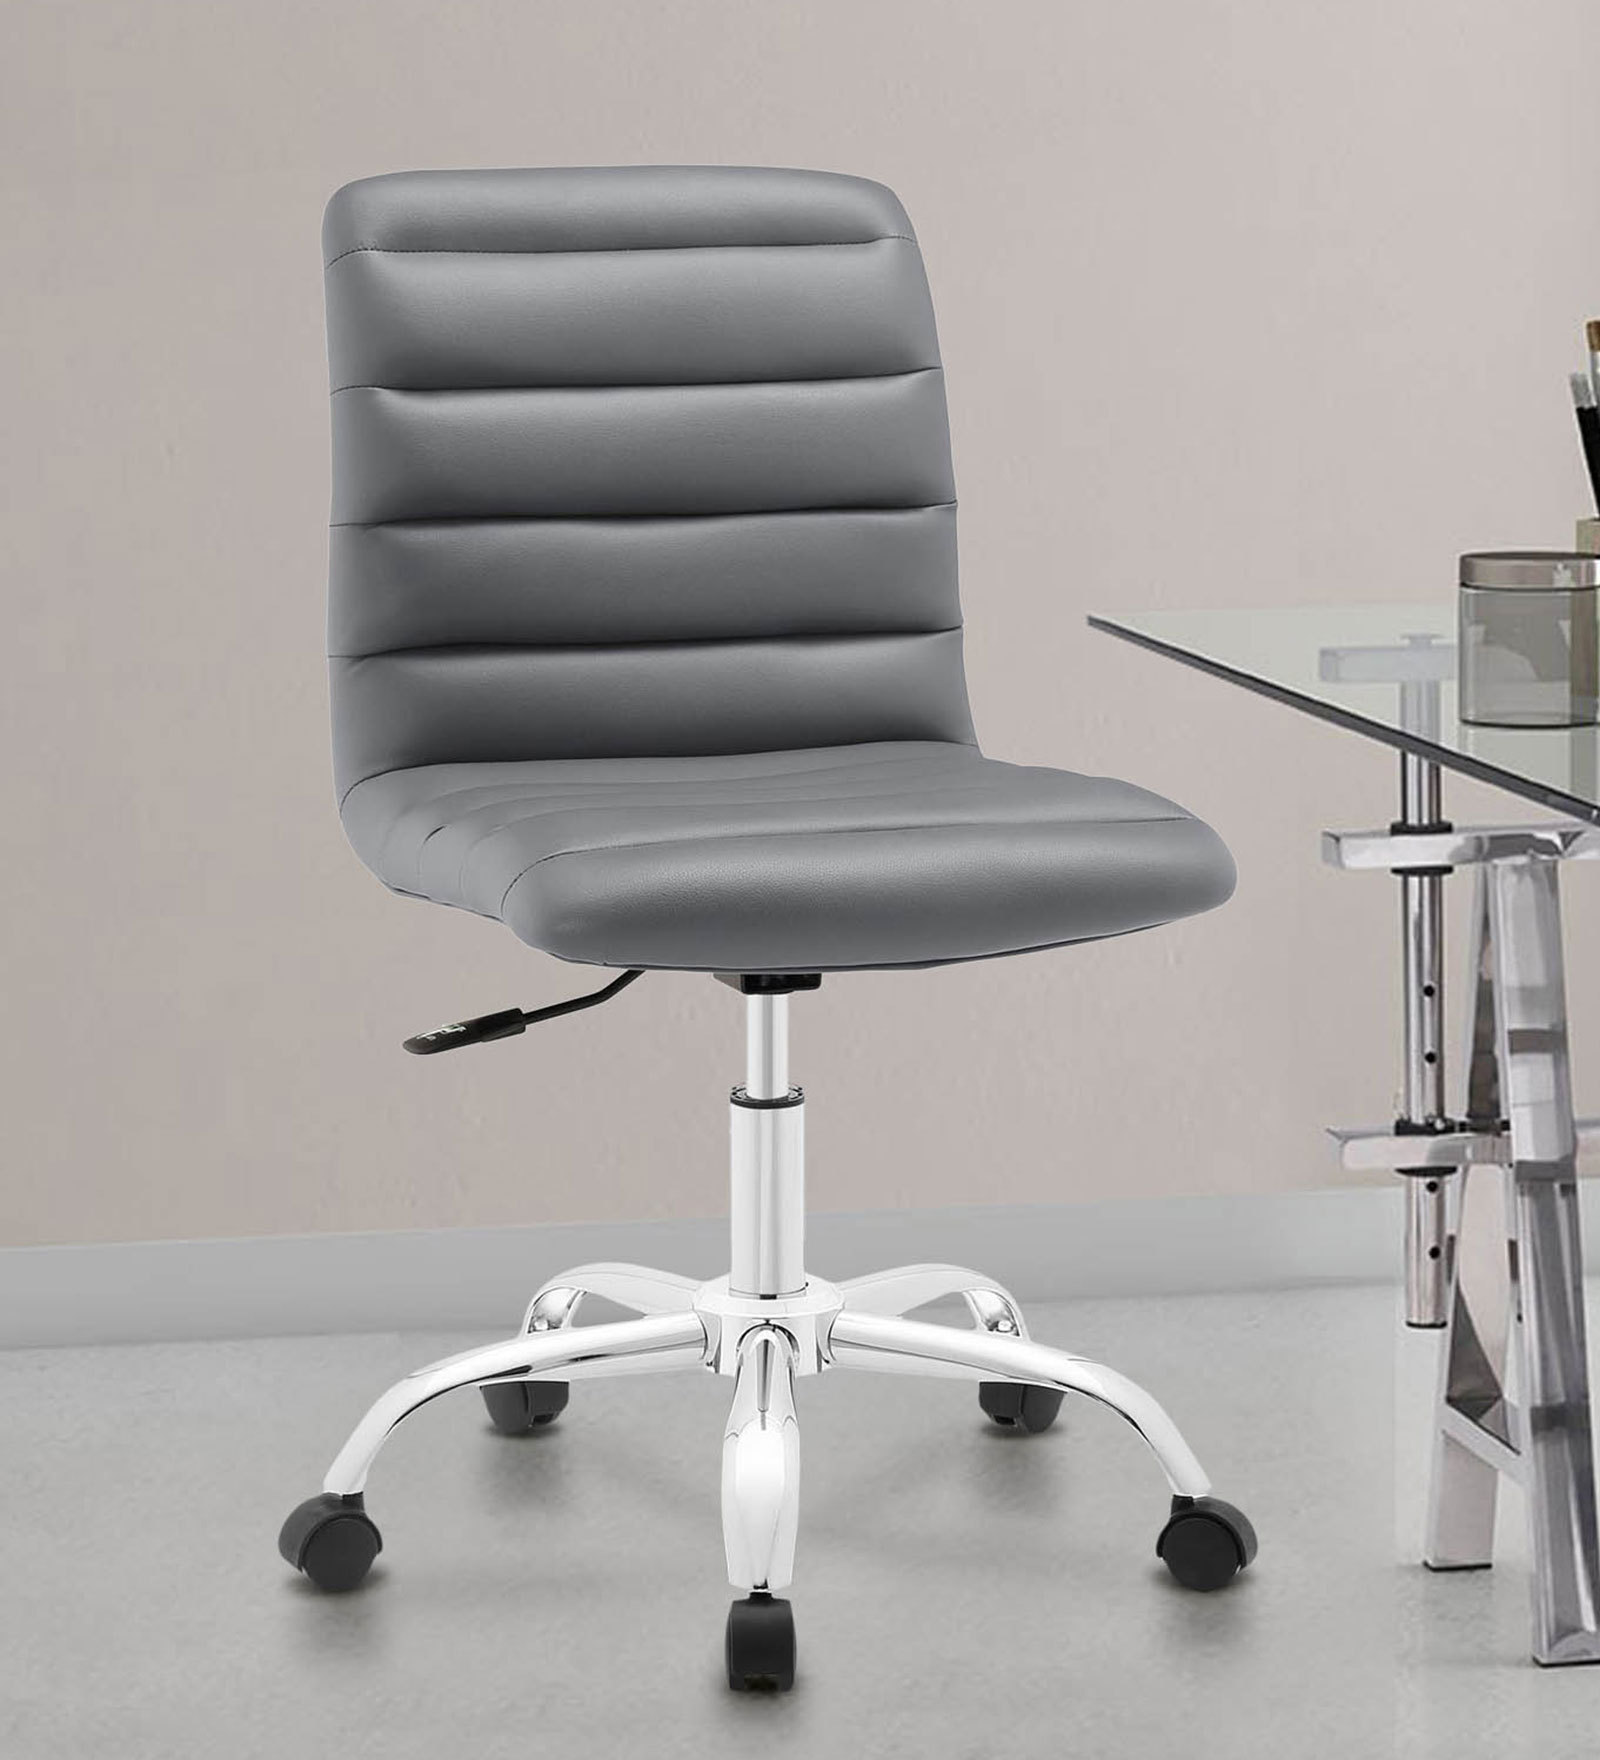Tangy Ergonomic Chair in Grey Leatherette by Exclusive Furniture: (129, 120, 1392, 1693)
